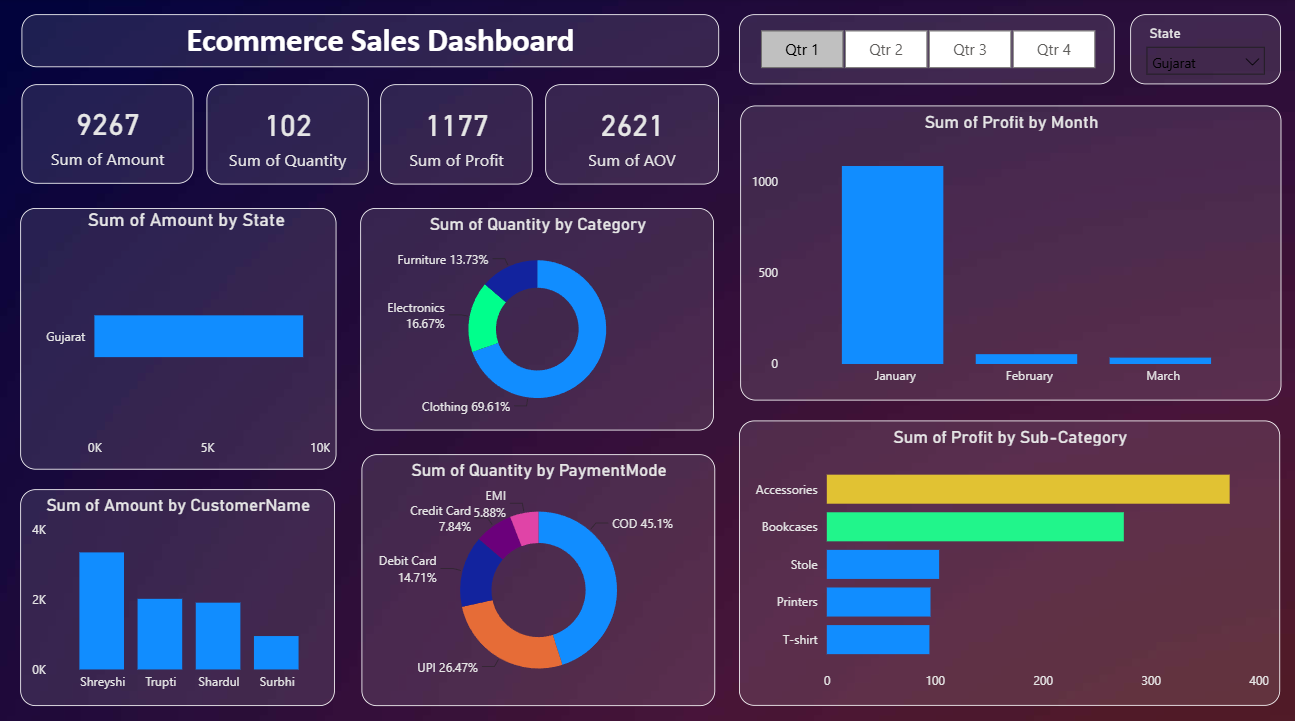

The dashboard page shown, as its layout file describes it:
{"tool":"powerbi","page":{"name":"Page 1","canvas":[1280,720],"ordinal":0},"visuals":[{"type":"textbox","box":[22,16.5,684.7,52.1],"z":0},{"type":"columnChart","fields":{"Category":["orders.Order Date.Variation.Date Hierarchy.Month"],"Y":["Sum(Details.Profit)"]},"box":[727.3,105.7,531,289.5],"z":1000},{"type":"barChart","fields":{"Category":["Details.Sub-Category"],"Y":["Sum(Details.Profit)"]},"box":[725.9,414.4,531,279.9],"z":2000},{"type":"donutChart","fields":{"Category":["Details.Category"],"Y":["Sum(Details.Quantity)"]},"box":[354,205.8,347.2,218.2],"z":3000},{"type":"donutChart","fields":{"Y":["Sum(Details.Quantity)"],"Category":["Details.PaymentMode"]},"box":[355.4,447.3,347.2,247],"z":4000},{"type":"card","fields":{"Values":["Sum(Details.Amount)"]},"box":[22,85.1,168.8,97.4],"z":5000},{"type":"card","fields":{"Values":["Sum(Details.Profit)"]},"box":[374.6,85.1,149.6,98.8],"z":6000},{"type":"card","fields":{"Values":["Sum(Details.Quantity)"]},"box":[203.1,85.1,159.2,98.8],"z":7000},{"type":"card","fields":{"Values":["Sum(Details.AOV)"]},"box":[536.5,85.1,170.2,98.8],"z":8000},{"type":"barChart","fields":{"Category":["orders.State"],"Y":["Sum(Details.Amount)"]},"box":[20.6,205.8,310.1,256.6],"z":9000},{"type":"columnChart","fields":{"Category":["orders.CustomerName"],"Y":["Sum(Details.Amount)"]},"box":[20.6,481.6,308.7,212.7],"z":10000},{"type":"slicer","fields":{"Values":["orders.Order Date.Variation.Date Hierarchy.Quarter"]},"box":[725.9,16.5,369.1,68.6],"z":11000},{"type":"slicer","fields":{"Values":["orders.State"]},"box":[1110.1,16.5,148.2,68.6],"z":12000}]}

Visuals, with their boxes in screenshot pixels (x1, y1, x2, y2), scaled from the page's 1280x720 canvas onto the 1295x721 screenshot:
textbox: l=22, t=17, r=715, b=69
columnChart - orders.Order Date.Variation.Date Hierarchy.Month x Sum(Details.Profit): l=736, t=106, r=1273, b=396
barChart - Details.Sub-Category x Sum(Details.Profit): l=734, t=415, r=1272, b=695
donutChart - Details.Category x Sum(Details.Quantity): l=358, t=206, r=709, b=425
donutChart - Sum(Details.Quantity) x Details.PaymentMode: l=360, t=448, r=711, b=695
card - Sum(Details.Amount): l=22, t=85, r=193, b=183
card - Sum(Details.Profit): l=379, t=85, r=530, b=184
card - Sum(Details.Quantity): l=205, t=85, r=367, b=184
card - Sum(Details.AOV): l=543, t=85, r=715, b=184
barChart - orders.State x Sum(Details.Amount): l=21, t=206, r=335, b=463
columnChart - orders.CustomerName x Sum(Details.Amount): l=21, t=482, r=333, b=695
slicer - orders.Order Date.Variation.Date Hierarchy.Quarter: l=734, t=17, r=1108, b=85
slicer - orders.State: l=1123, t=17, r=1273, b=85
